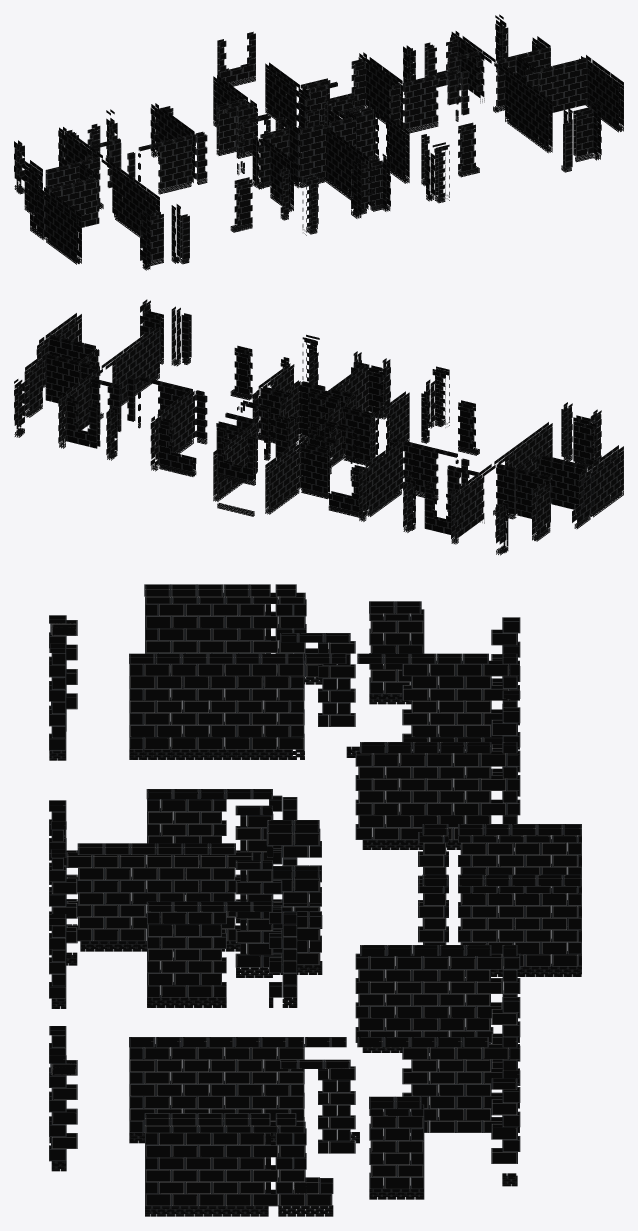
The model's file is edges.glb.
3 renders of one model, top to bottom at view 1: azimuth 30°, elevation 25°; view 2: azimuth 150°, elevation 25°; view 3: azimuth 270°, elevation 25°, orthographic. The views are drawn at different scales.
Parts seen in each view (by area): view 1: E_F02; view 2: E_F02; view 3: E_F02.
Part boxes in pixels (x1,y1,x2,y2): E_F02: (14,14,623,270); E_F02: (14,299,623,555); E_F02: (49,584,581,1216).
Bounding box in the file's own units: 28.4 × 3.87 × 12.85.
1 material, 1 textured.
